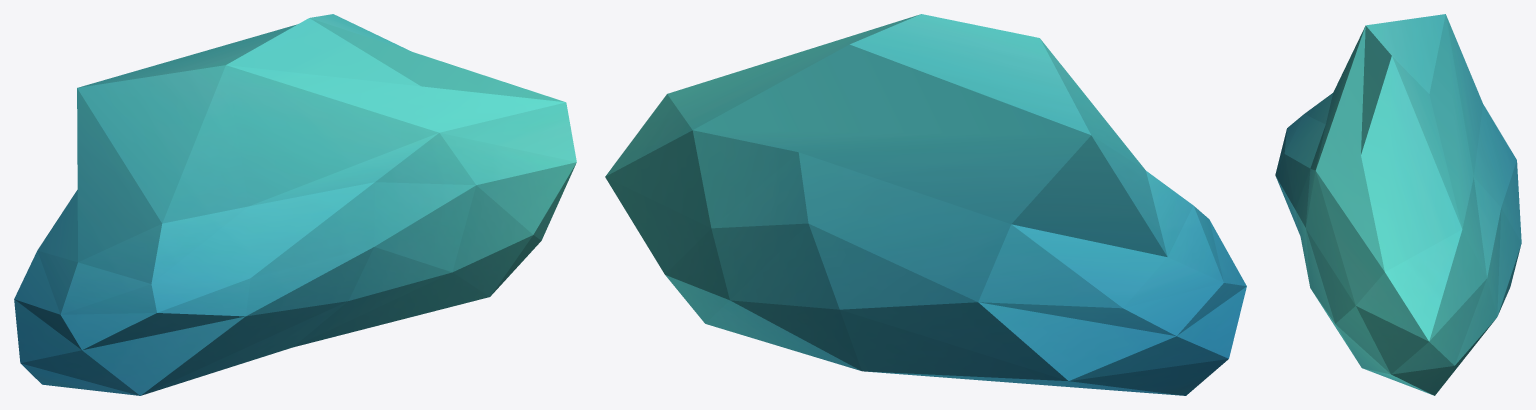
The model's file is LargeRock.fbx.
The picture shows the model from 3 angles, left to right: view 1: azimuth 30°, elevation 25°; view 2: azimuth 150°, elevation 25°; view 3: azimuth 270°, elevation 25°; orthographic projection. The views are drawn at different scales.
Parts seen in each view (by area): view 1: LargeRock; view 2: LargeRock; view 3: LargeRock.
Boxes of the visible parts, left/top/right/bottom form: LargeRock: left=14, top=14, right=576, bottom=395; LargeRock: left=605, top=14, right=1246, bottom=395; LargeRock: left=1275, top=14, right=1521, bottom=395.
Bounding box in the file's own units: 561 × 307 × 254.
